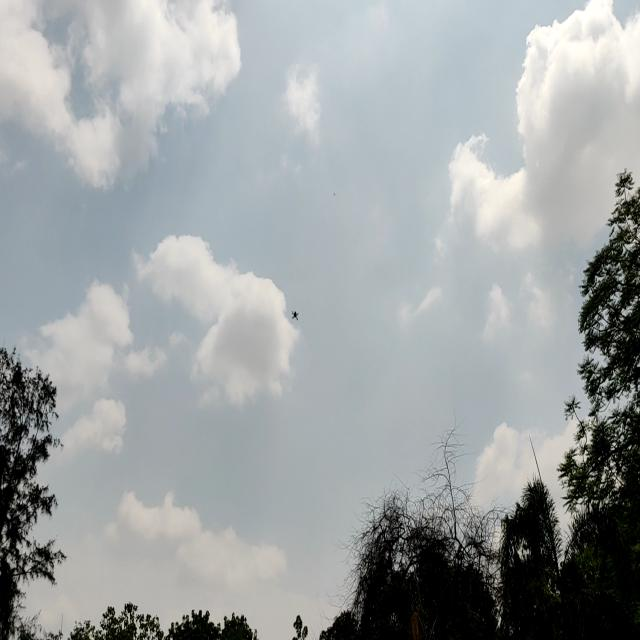drone: (288, 302, 304, 329)
